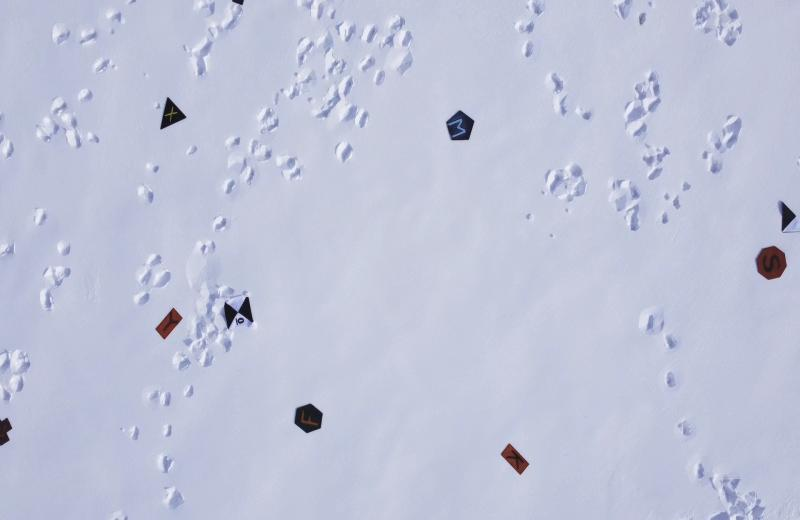Cross: (0, 412, 12, 448)
Hexagon: (293, 404, 326, 436)
Octagon: (757, 243, 788, 282)
Pentagon: (445, 110, 476, 144)
Rectangle: (500, 441, 529, 477), (154, 305, 184, 339)
Triangle: (158, 95, 187, 132)
